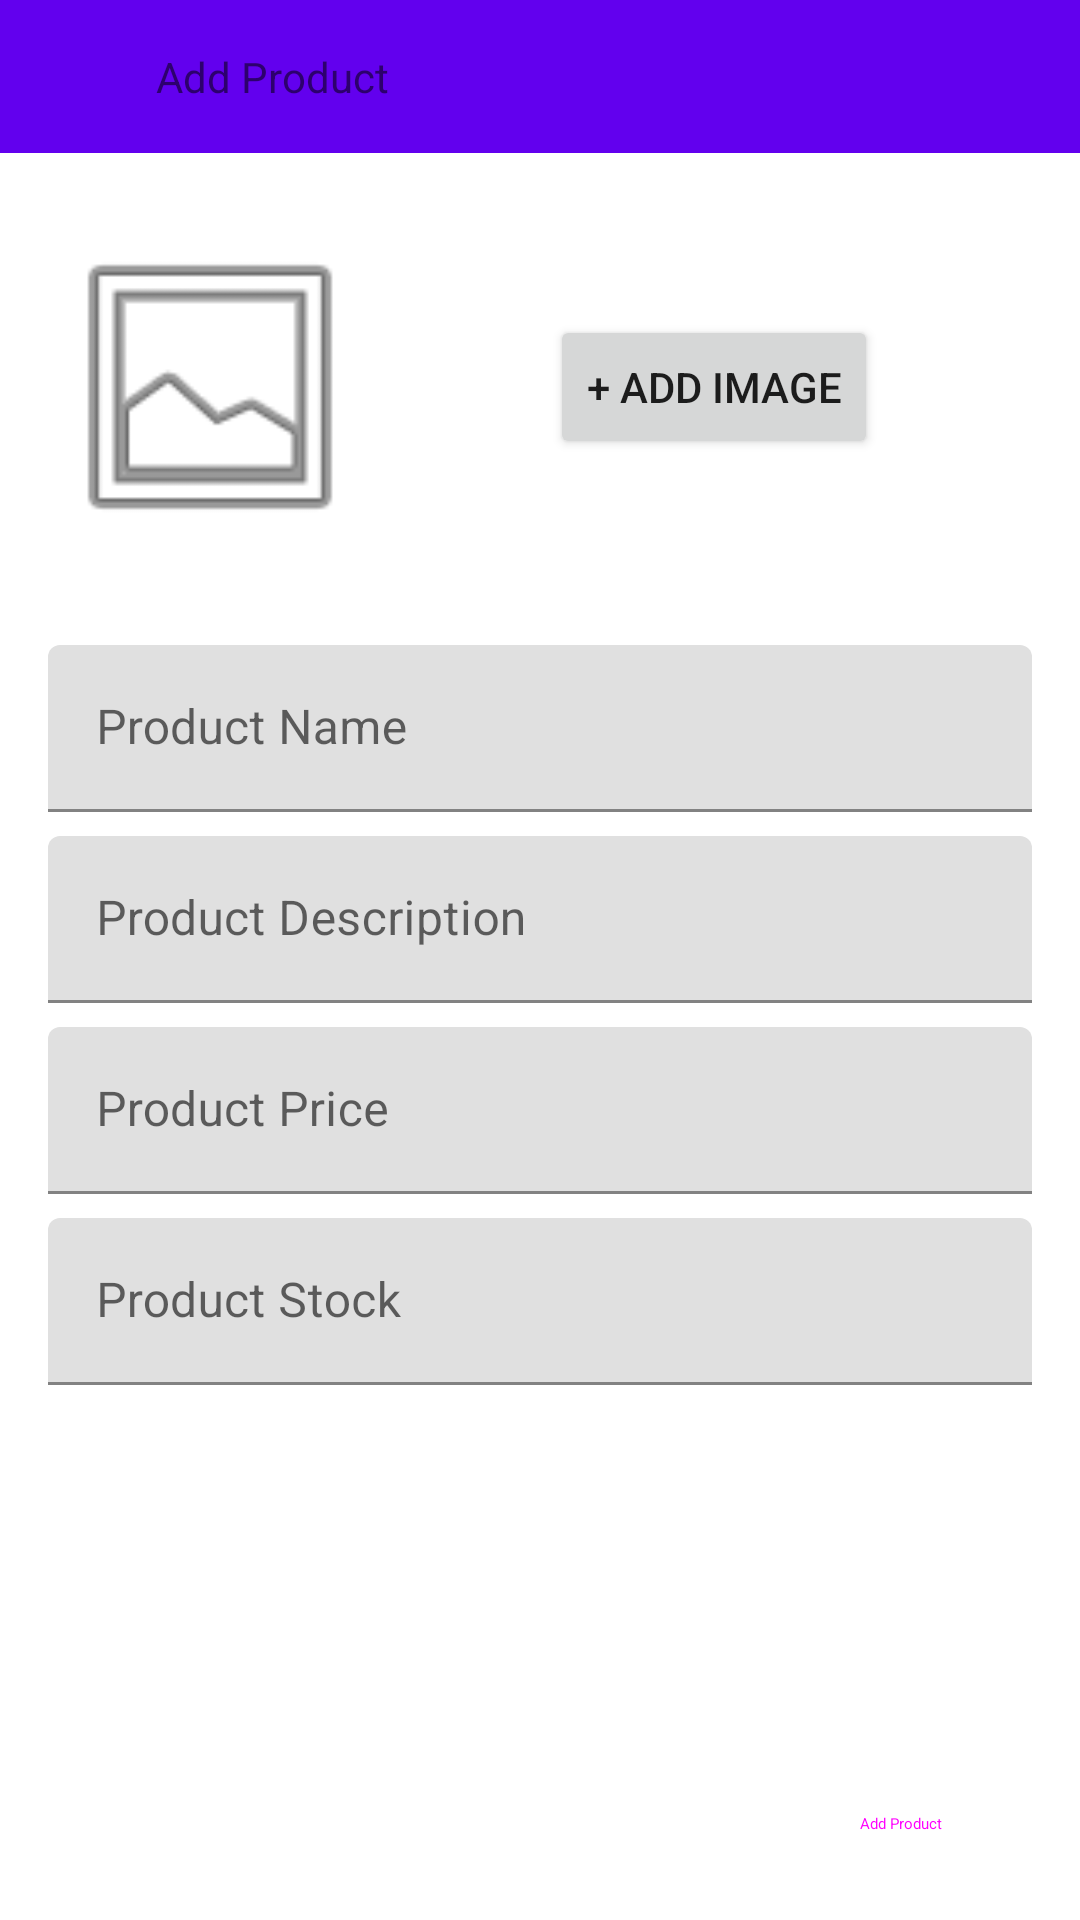

Named icons in this screenshot (1080×1920) and their centers, [x,y]:
gallery: [210,387]
